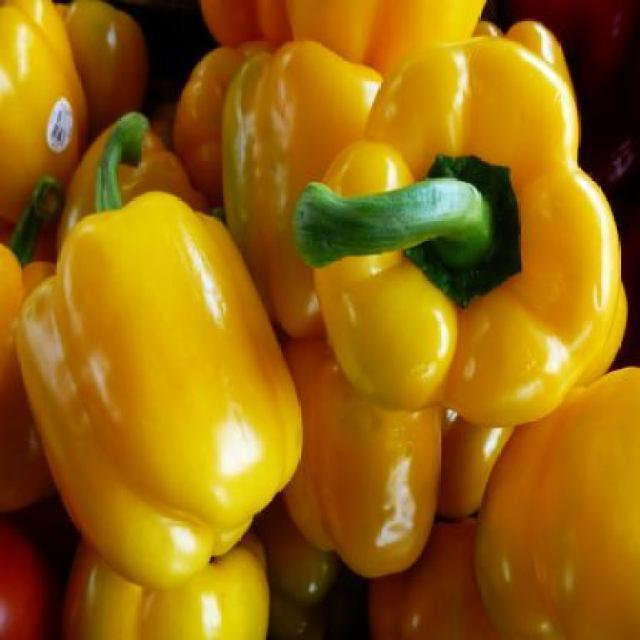Bell Pepper: (1, 0, 640, 638)
